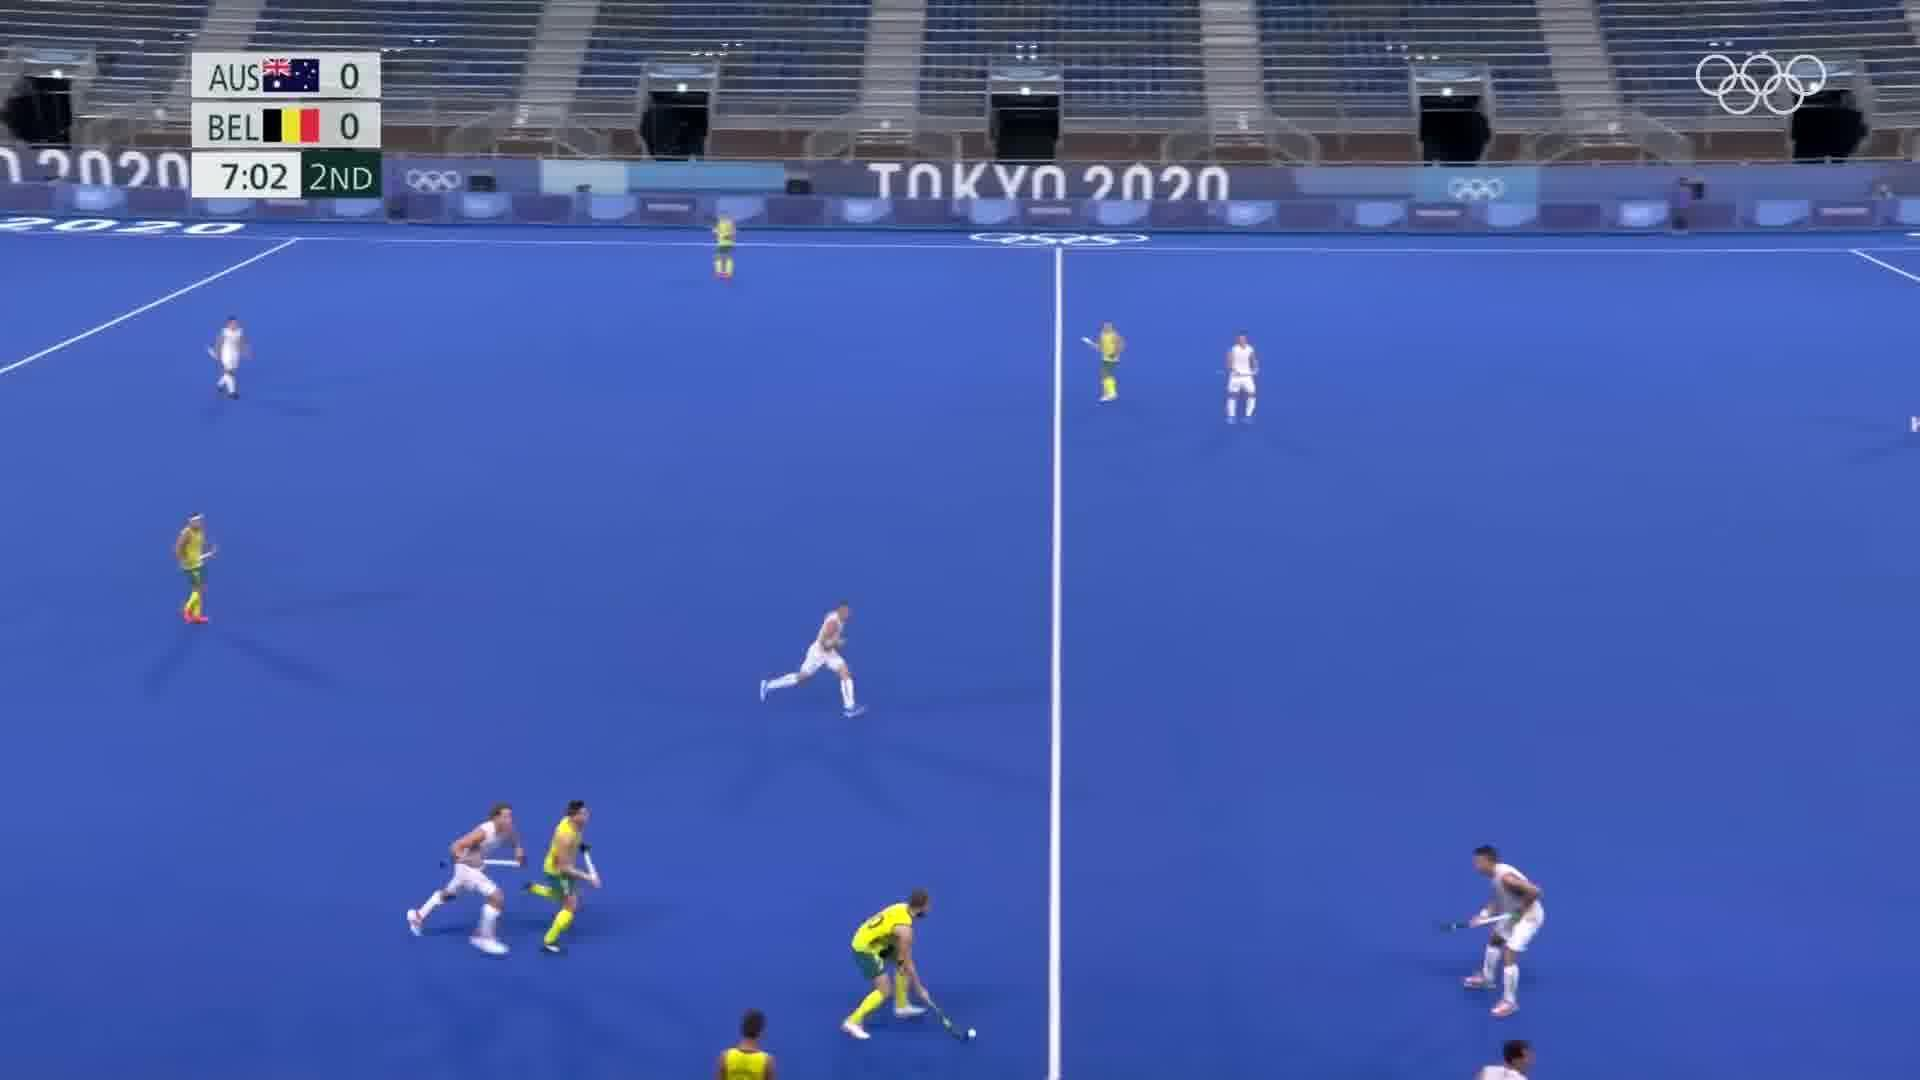ball: (960, 1019, 986, 1044)
